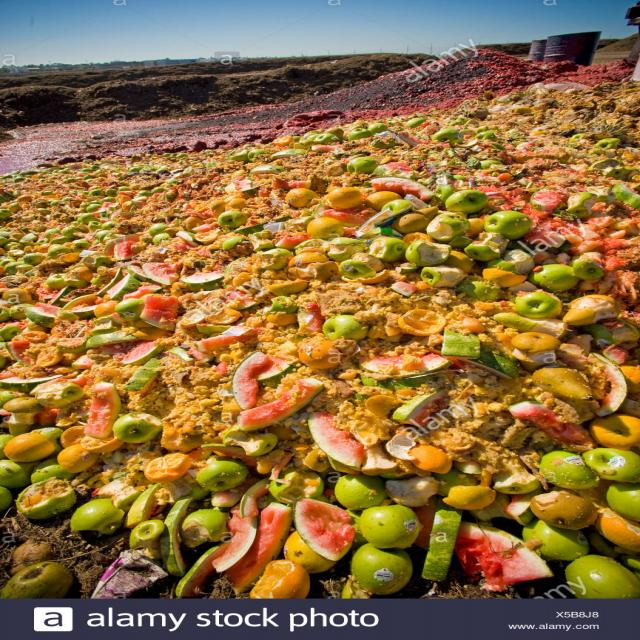food_waste: (64, 175, 608, 590)
